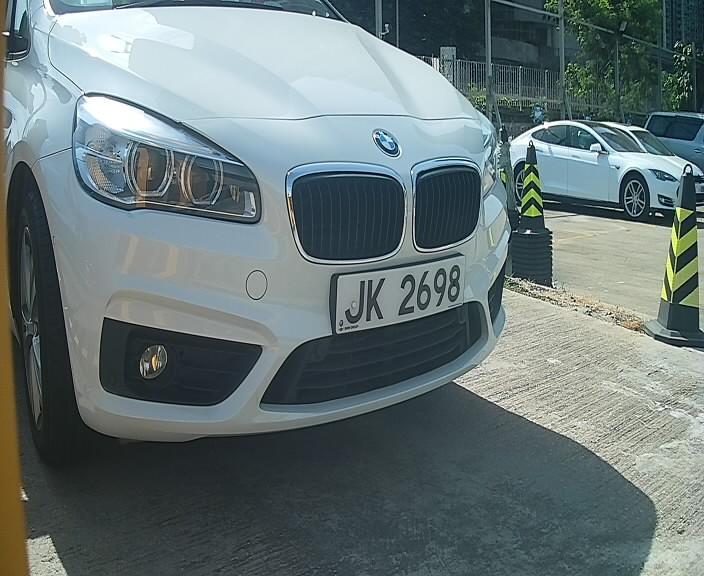privatecar: (10, 3, 554, 466)
